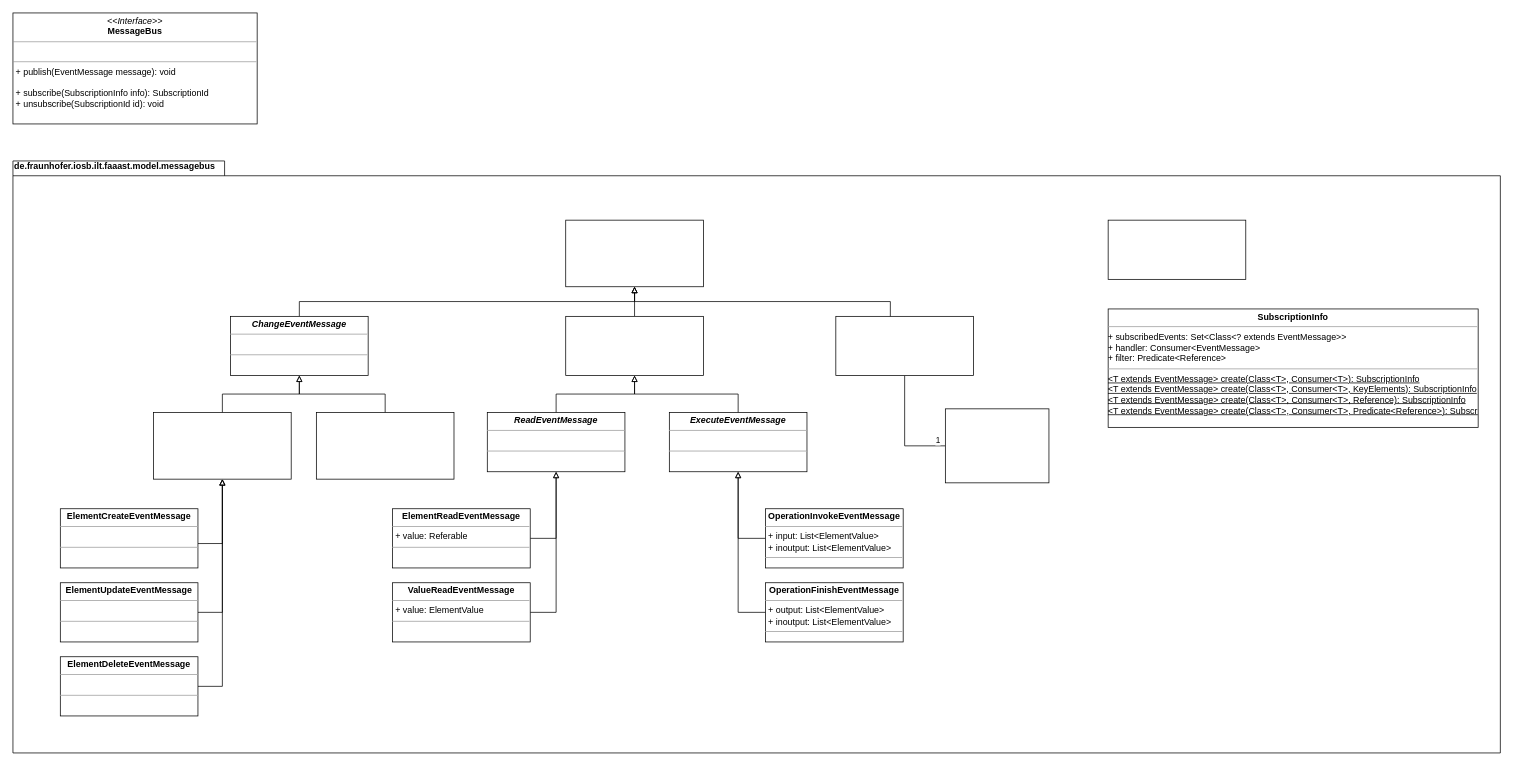
The diagram is 1526 pixels wide and 766 high, and some of its shapes have lost their labels. Each missing label, with the box of its shape:
<<enumeration>> ErrorLevel Info (Default) Warn Error: (945, 408, 1049, 483)
AccessEventMessage: (565, 316, 703, 376)
ElementChangeEventMessage + value: Referable: (153, 412, 291, 479)
ErrorEventMessage + exception: Exception + throwingSource: Class: (835, 316, 973, 376)
EventMessage + element: Reference: (565, 219, 703, 287)
SubscriptionId + subscriptionId: UUID: (1107, 219, 1246, 279)
ValueChangeEventMessage + oldValue: ElementValue + newValue: ElementValue: (316, 412, 454, 479)
